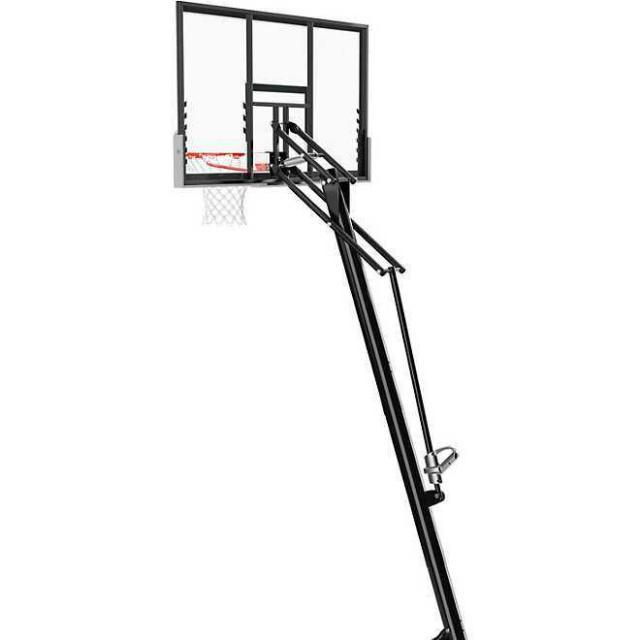hoop: (186, 152, 255, 226)
